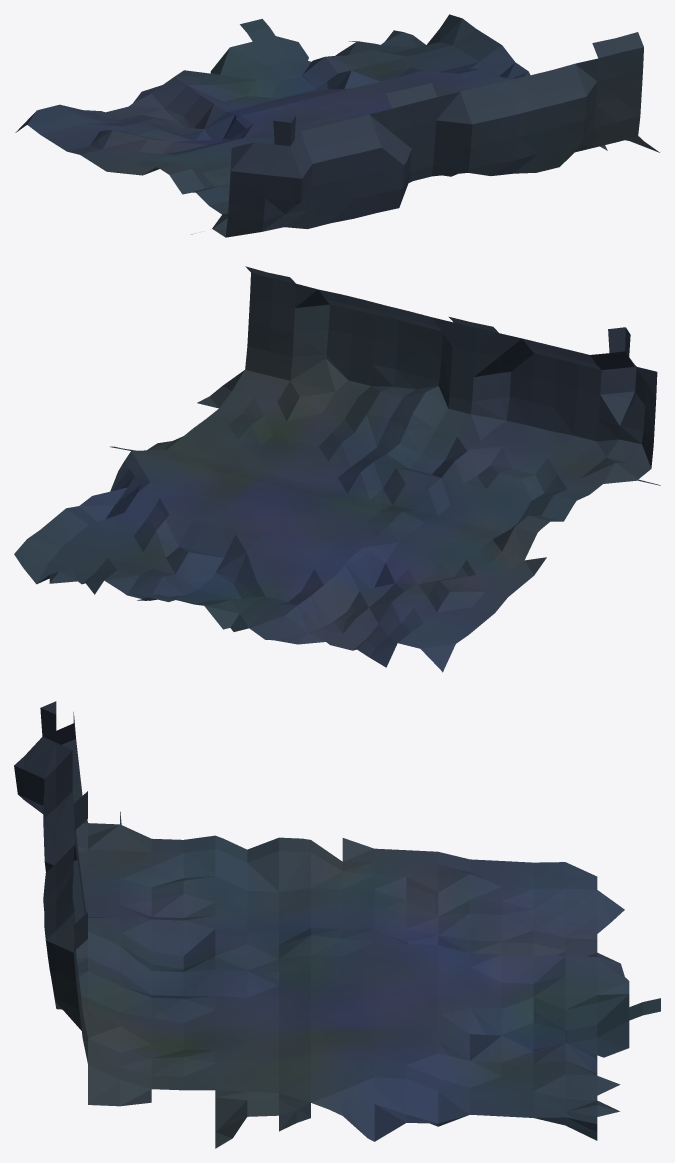
File: blue.obj
3 views of the same model, one above another, from view 1: azimuth 30°, elevation 25°; view 2: azimuth 150°, elevation 25°; view 3: azimuth 270°, elevation 25° (orthographic). The views are drawn at different scales.
Bounding box in the file's own units: 1.93 × 0.6945 × 1.87.
Materials: 1 (1 with a texture image).
